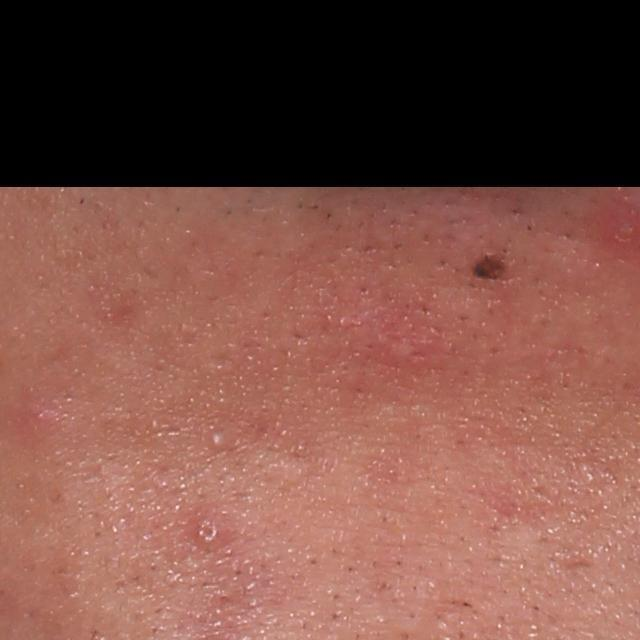atrophic_scar: (559, 554, 599, 573)
nevus: (466, 240, 515, 290)
papule: (9, 387, 72, 443)
pustule: (205, 423, 233, 455)
